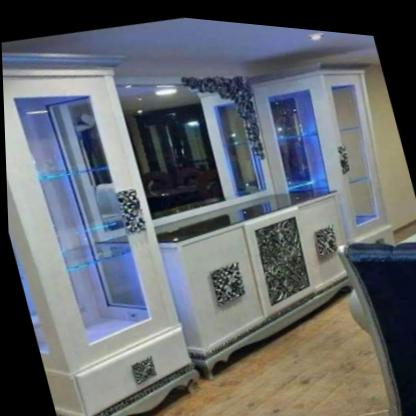Cupboard: (2, 53, 416, 416)
Wooden floor: (126, 291, 390, 416)
